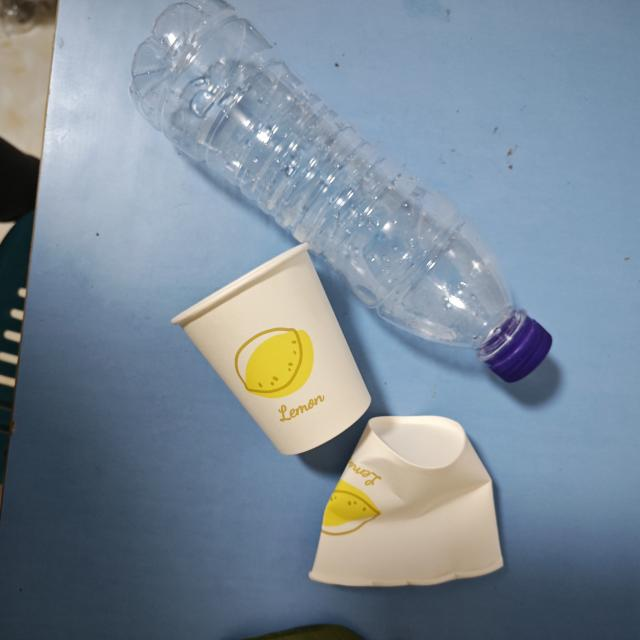-Recyclables - paper cup-: (169, 245, 370, 453), (310, 417, 504, 587)
-Recyclables - plastic bottle-: (129, 0, 555, 382)
